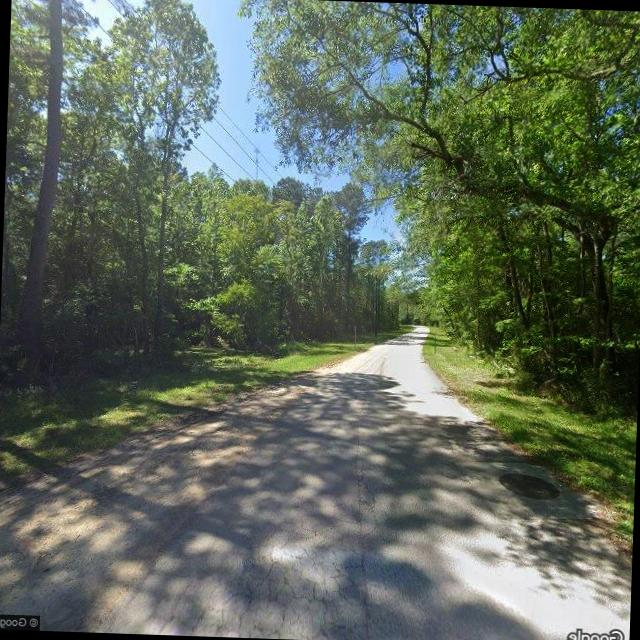crack: (185, 410, 400, 640)
